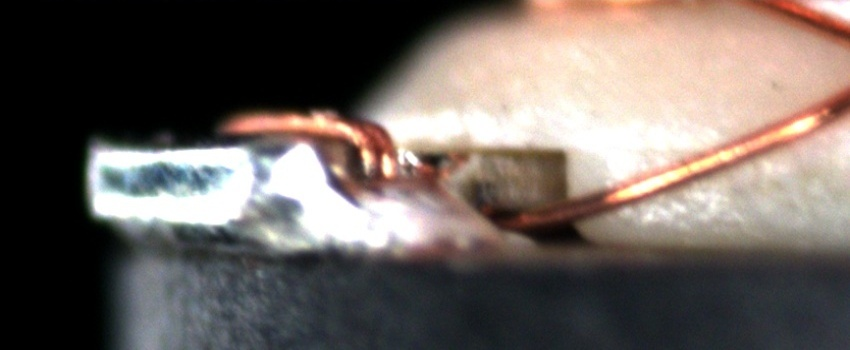DL: (621, 136, 722, 178)
TE: (226, 100, 412, 190)
